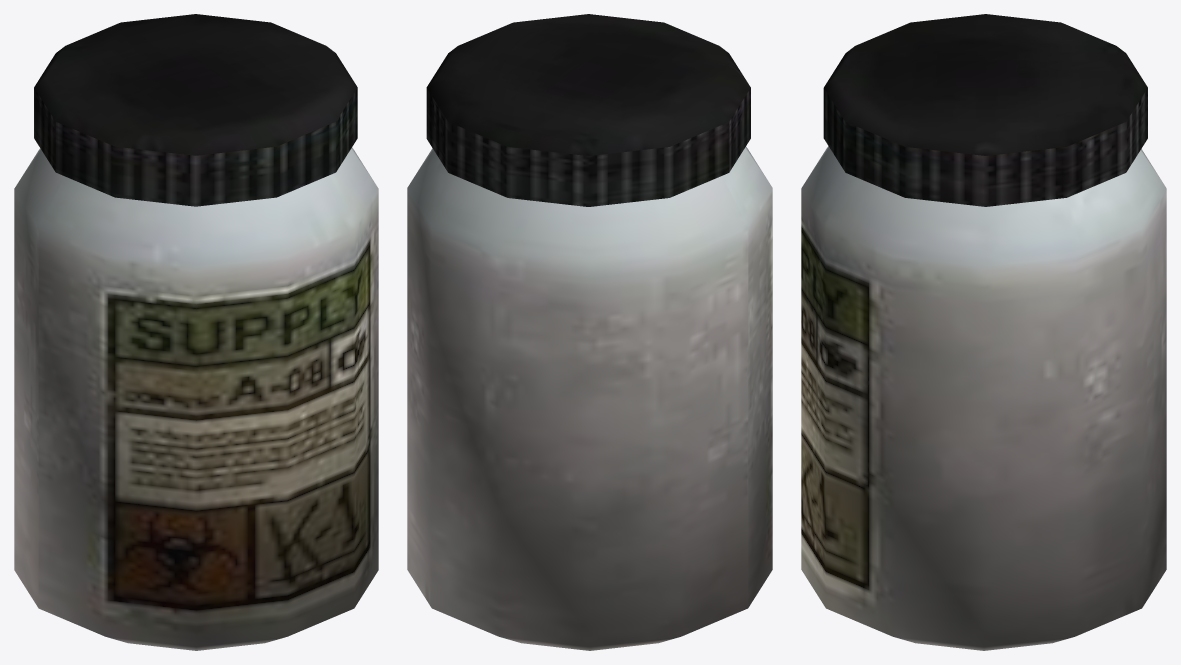
File: jar01b.glb
3 views of the same model, side by side, from view 1: azimuth 30°, elevation 25°; view 2: azimuth 150°, elevation 25°; view 3: azimuth 270°, elevation 25° (orthographic).
Parts seen in each view (by area): view 1: 0_lab_objects01; view 2: 0_lab_objects01; view 3: 0_lab_objects01.
Part boxes in pixels (x1=…): 0_lab_objects01: x1=14, y1=14, x2=378, y2=650; 0_lab_objects01: x1=407, y1=14, x2=772, y2=650; 0_lab_objects01: x1=801, y1=14, x2=1166, y2=650.
Size of the model in its own units: 0.1682 by 0.262 by 0.1682.
Materials: 1 (1 with a texture image).
